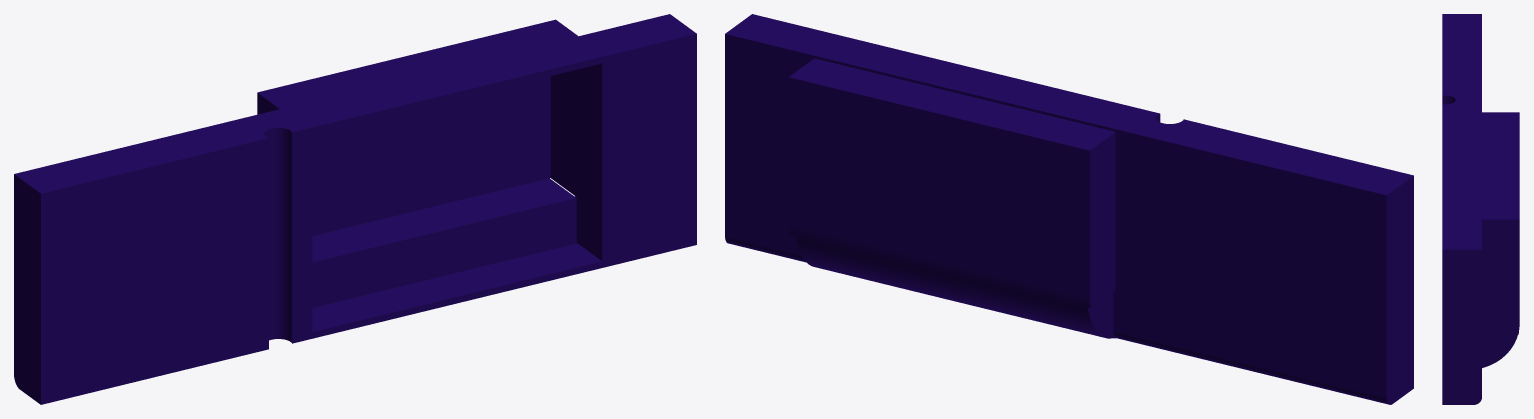
The model's file is computer.glb.
3 views of the same model, side by side, from view 1: azimuth 30°, elevation 25°; view 2: azimuth 150°, elevation 25°; view 3: azimuth 270°, elevation 25° (orthographic). The views are drawn at different scales.
Parts seen in each view (by area): view 1: Body1; view 2: Body1; view 3: Body1.
Part boxes in pixels (x1,y1,x2,y2): Body1: [14, 14, 696, 404]; Body1: [725, 14, 1413, 404]; Body1: [1442, 14, 1519, 404].
Size of the model in its own units: 0.52 by 0.16 by 0.072.
